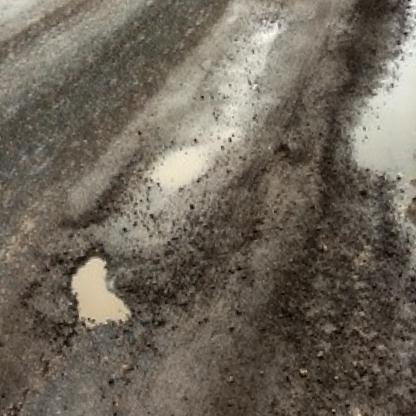pothole: (61, 243, 132, 334)
